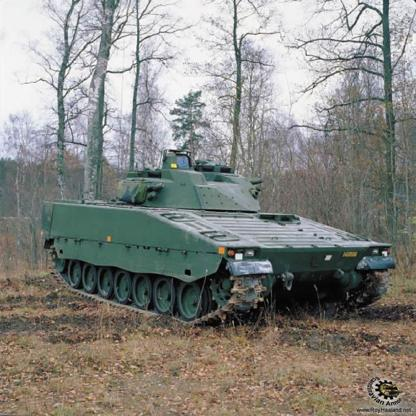Tank: (43, 144, 397, 333)
